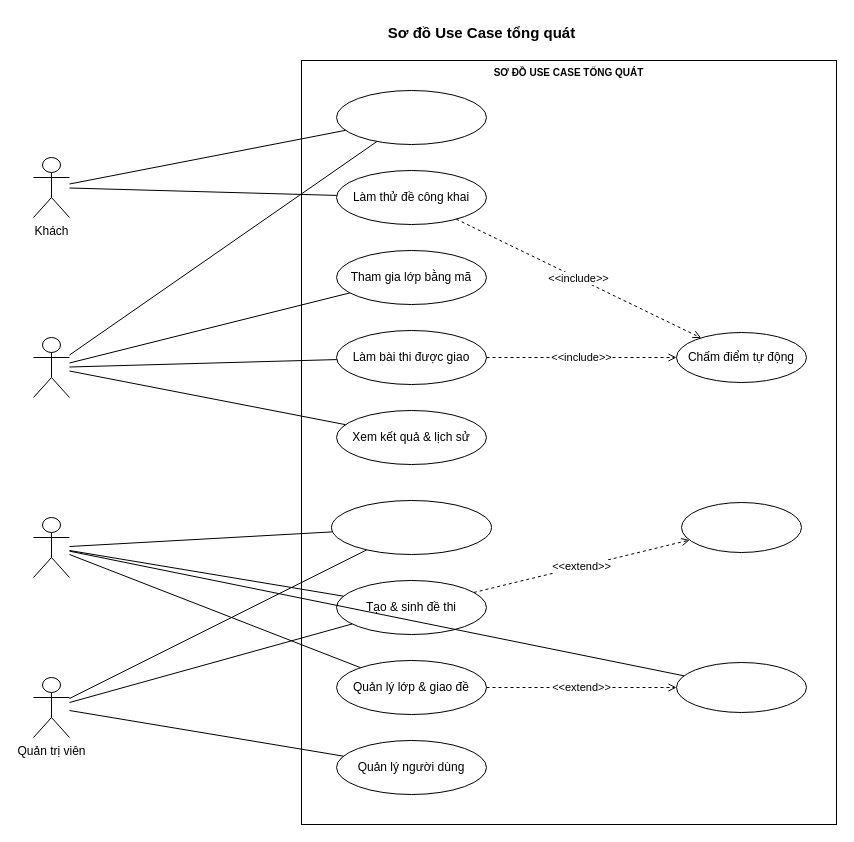
The diagram is 854 pixels wide and 842 high, and some of its shapes have lost their labels. The shapes that lost their labels are listed below. From the top down, each one's centre as x and y in pixels, then its label:
At (x=411, y=117): "Đăng ký / Đăng nhập".
At (x=51, y=367): "Sinh viên".
At (x=51, y=547): "Giảng viên".
At (x=411, y=527): "Quản lý ngân hàng câu hỏi".
At (x=741, y=527): "Import câu hỏi".
At (x=741, y=687): "Thống kê - báo cáo".
